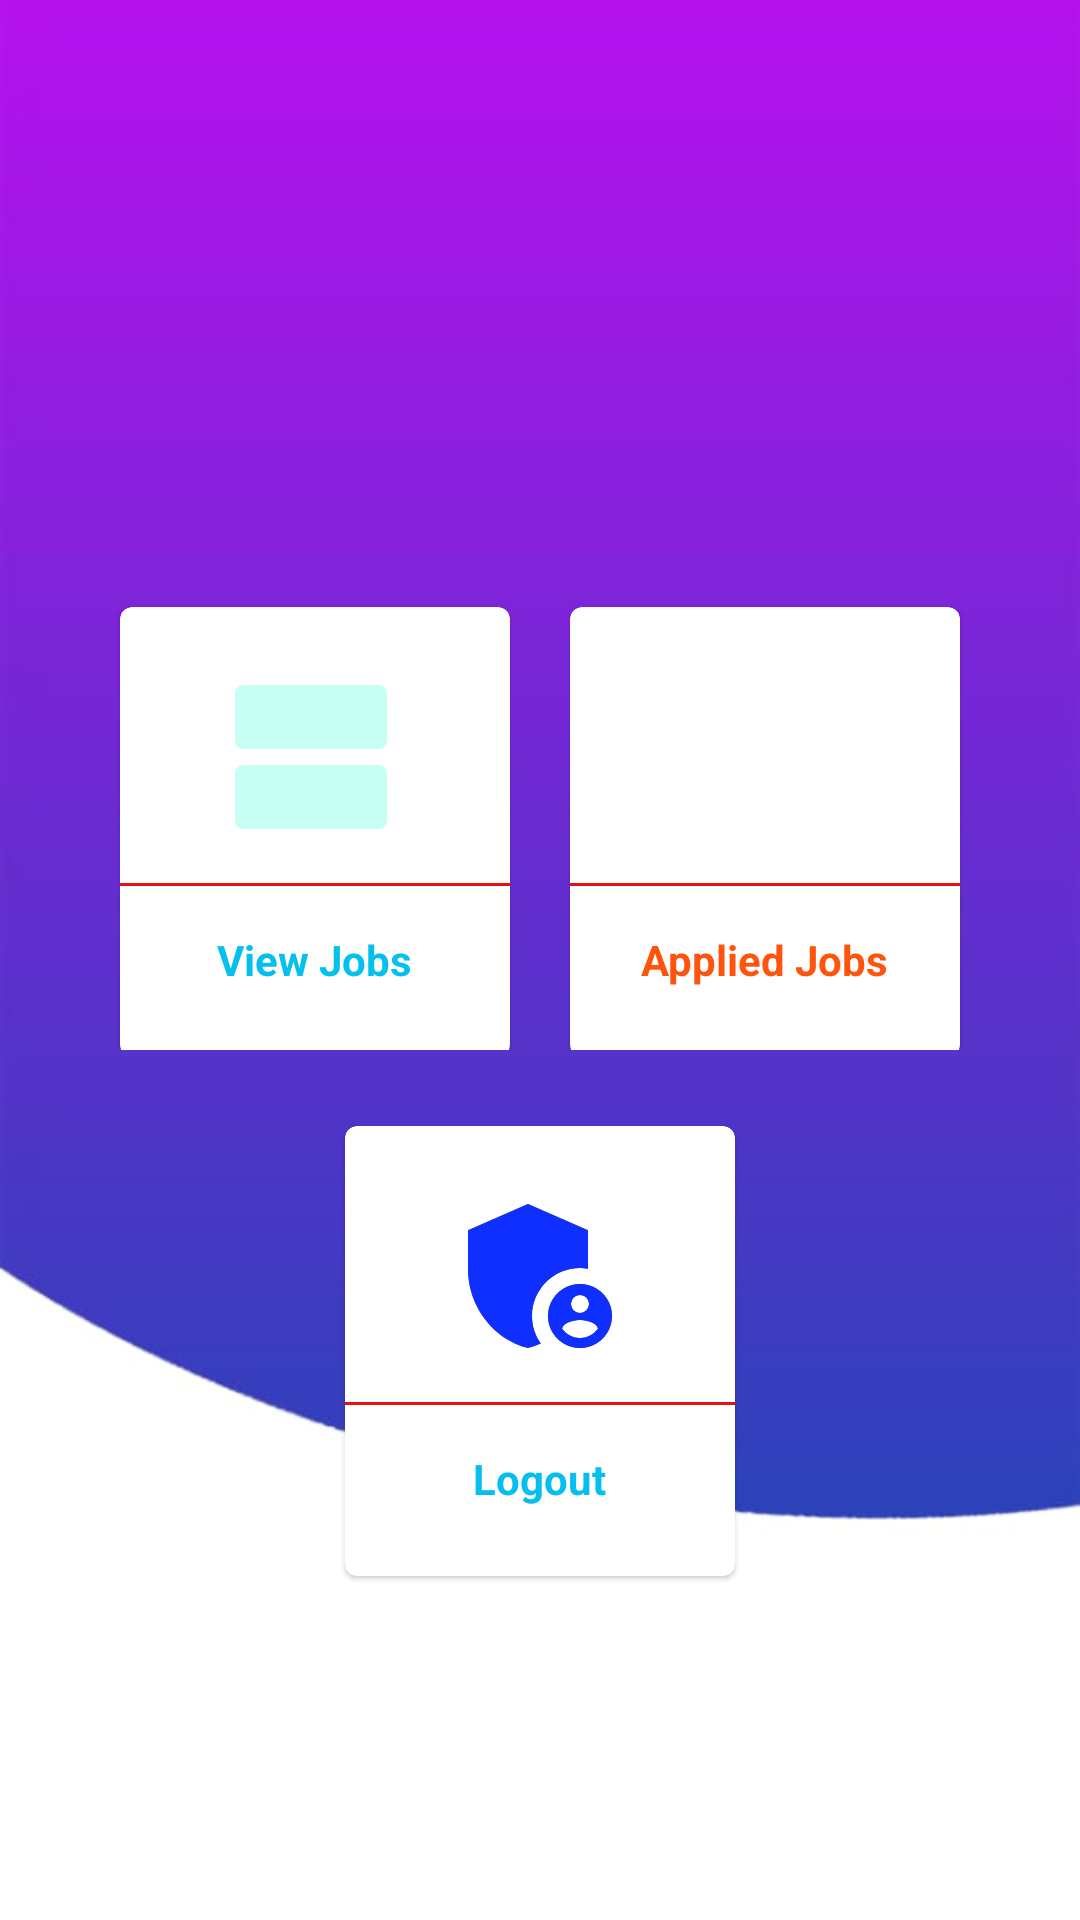

Named icons in this screenshot (1080 x 1920) and their bounding boxes, Rect(x1, y1, x2, y2):
admin: Rect(468, 1204, 612, 1348)
